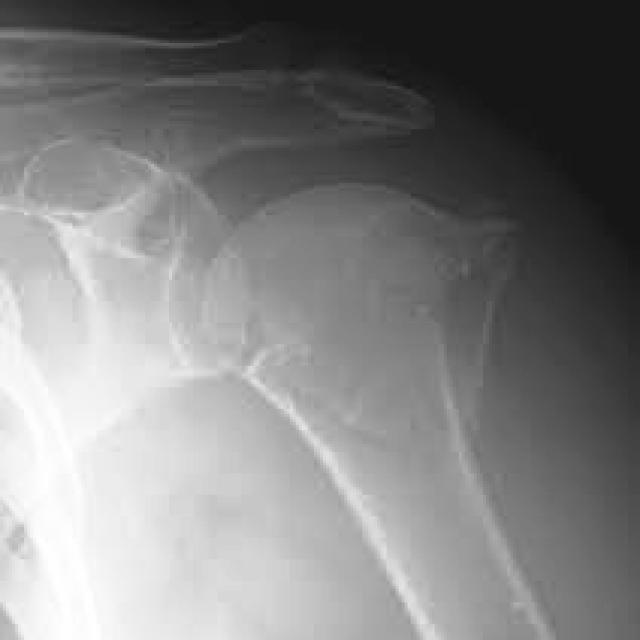Impact Fracture: (213, 331, 280, 381)
